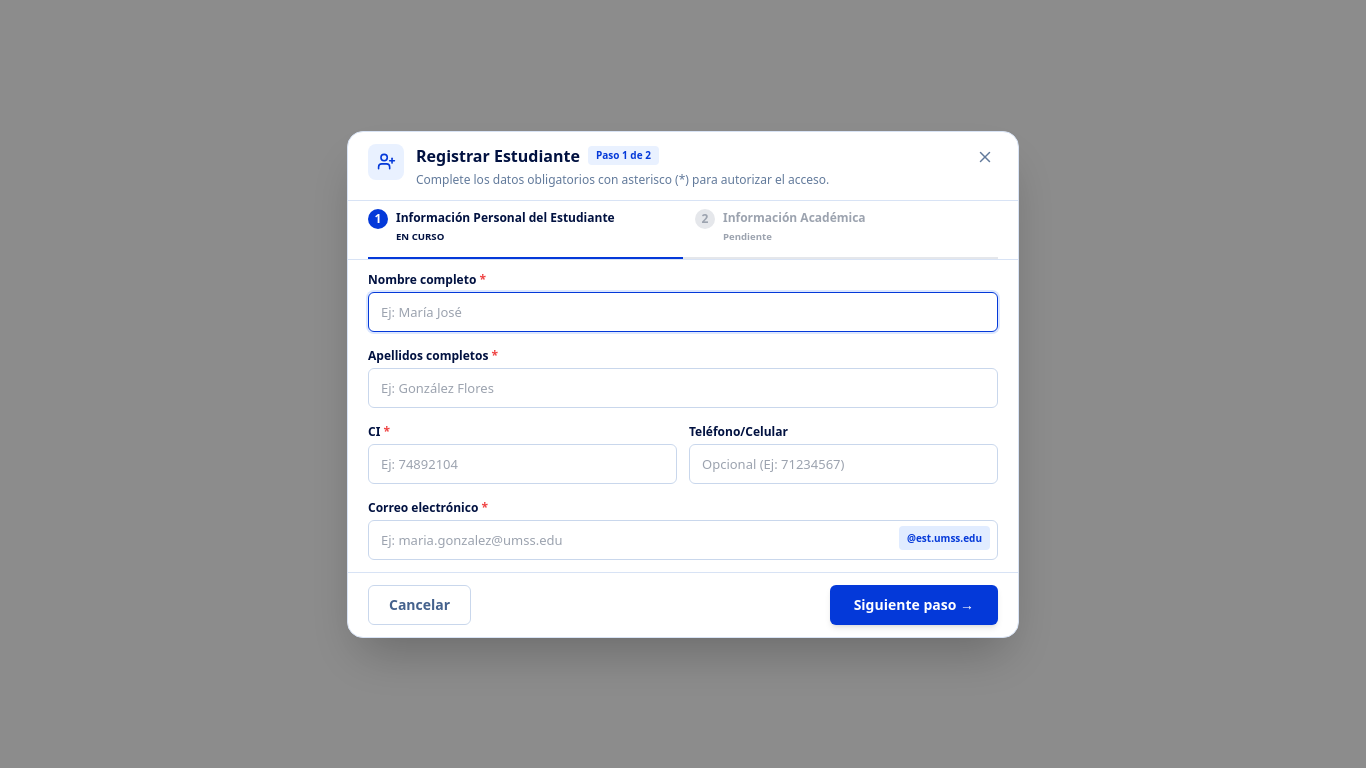
RegistrarEstudianteModal › rechaza el correo institucional ab@est.umss.edu según QA-A01
Step 1. Type "María" into the field with placeholder "Ej: María José" → coordinates (683, 312), box [368,292,998,332]
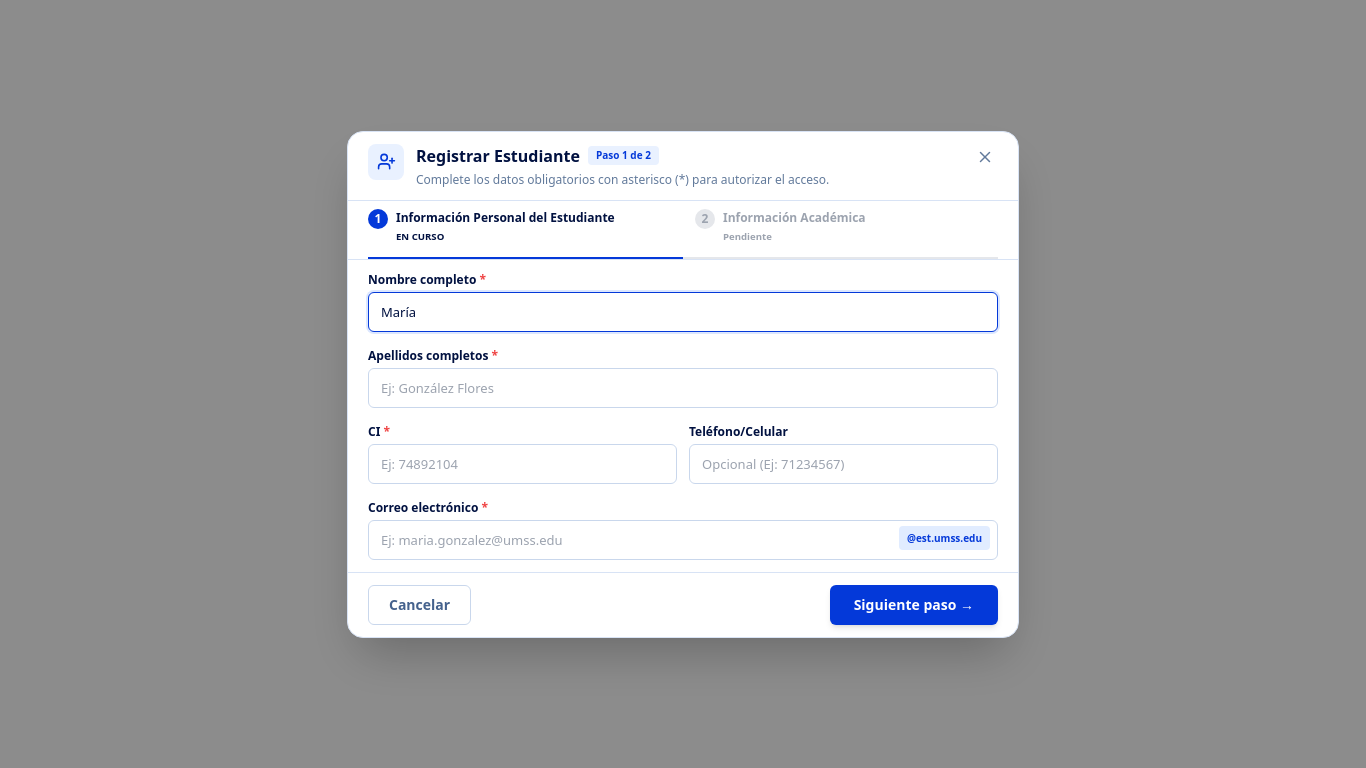
Step 2. Type "González" into the field with placeholder "Ej: González Flores" → coordinates (683, 388), box [368,368,998,408]
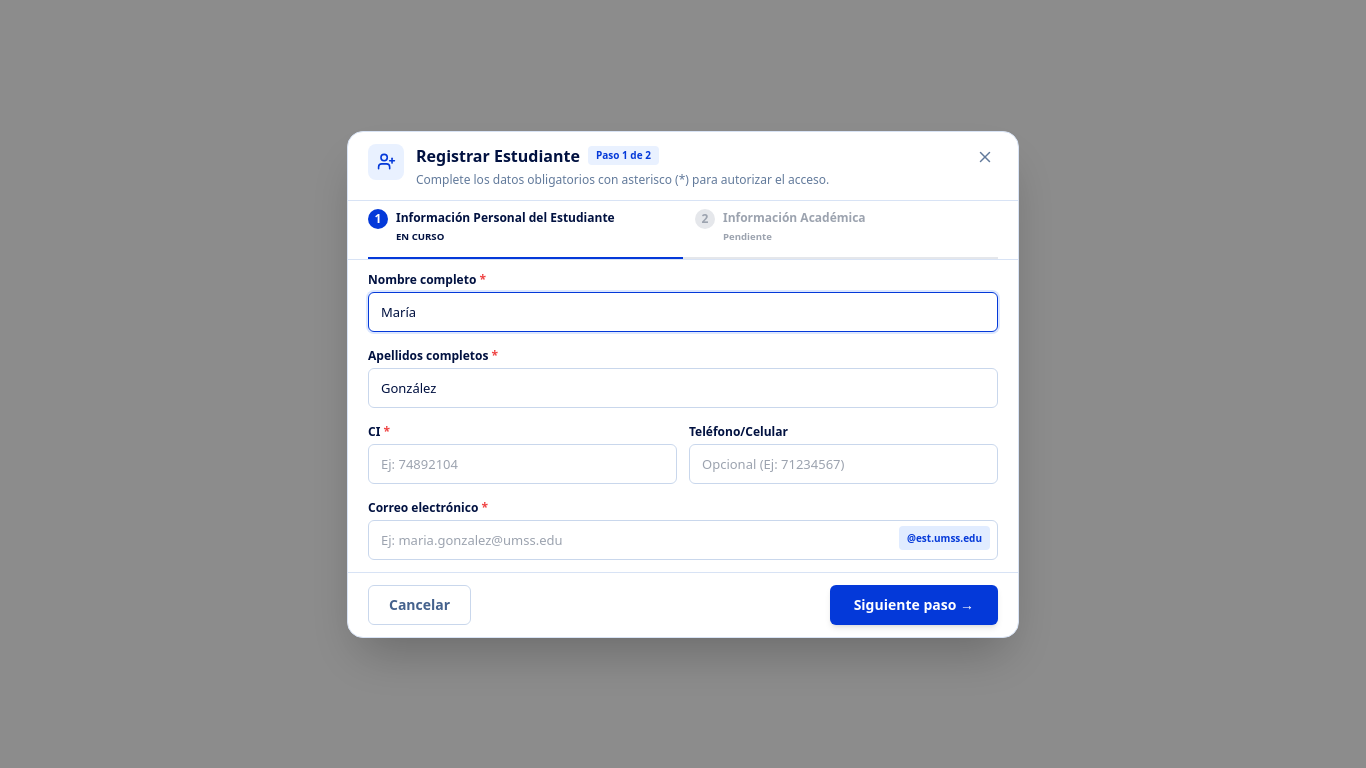
Step 3. Type "74892104" into the field with placeholder "Ej: 74892104" → coordinates (522, 464), box [368,444,677,484]
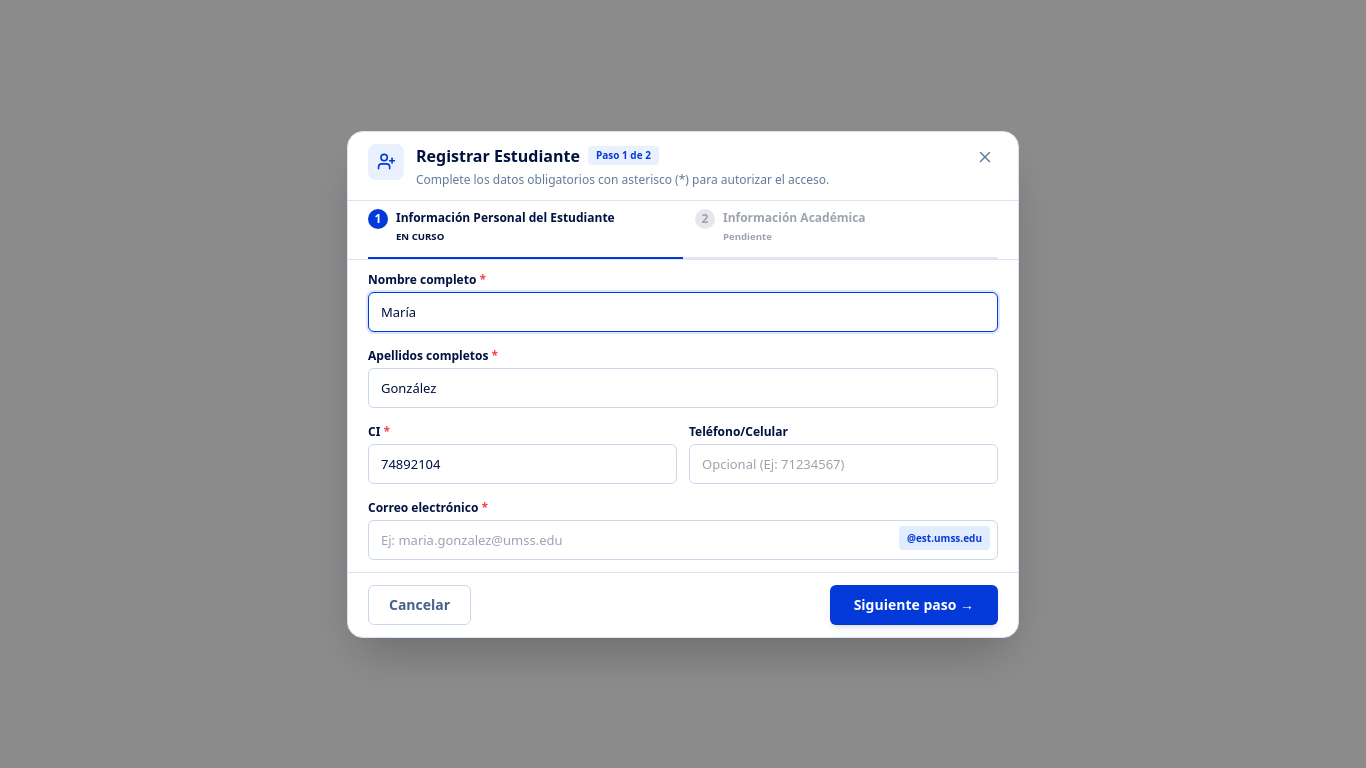
Step 4. Type "ab@est.umss.edu" into the field with placeholder "Ej: maria.gonzalez@umss.edu" → coordinates (683, 540), box [368,520,998,560]
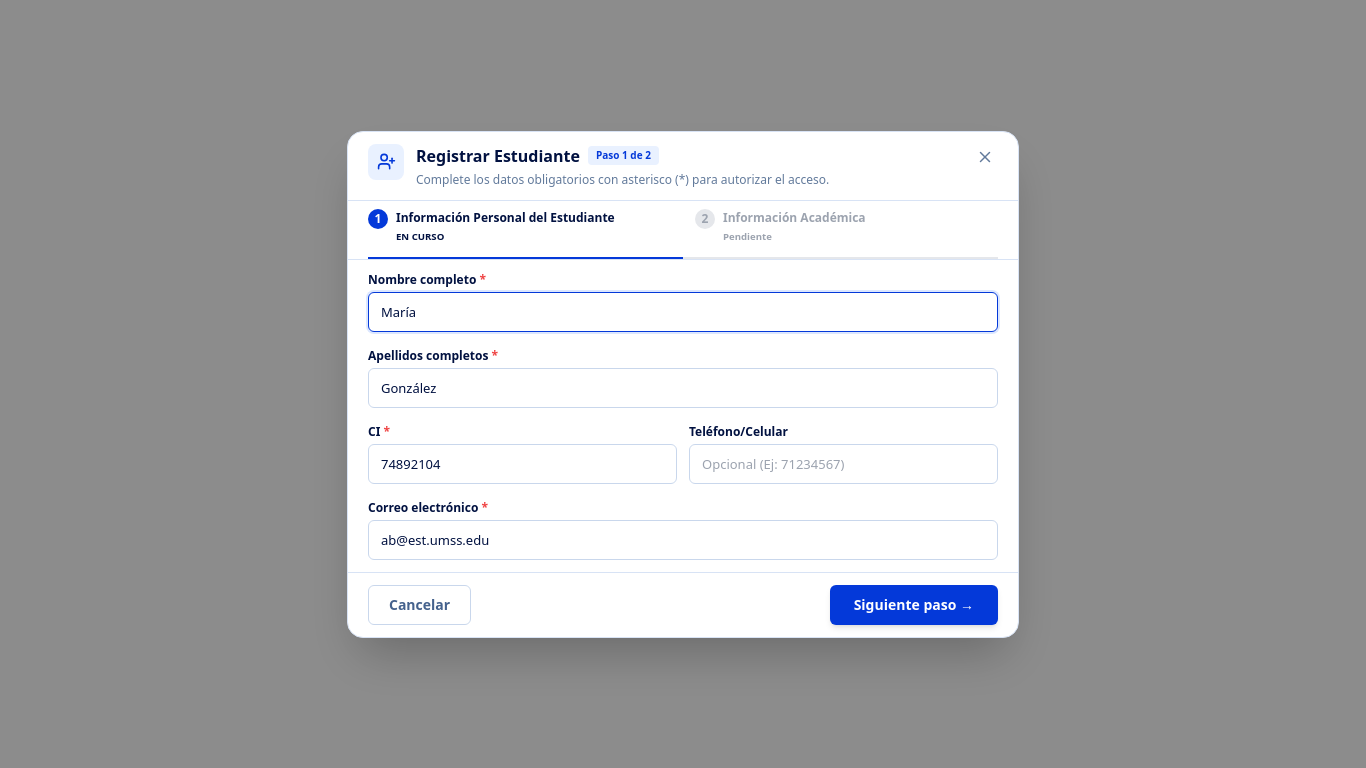
Step 5. Click the button "Siguiente paso →" → coordinates (914, 604), box [830,584,998,624]
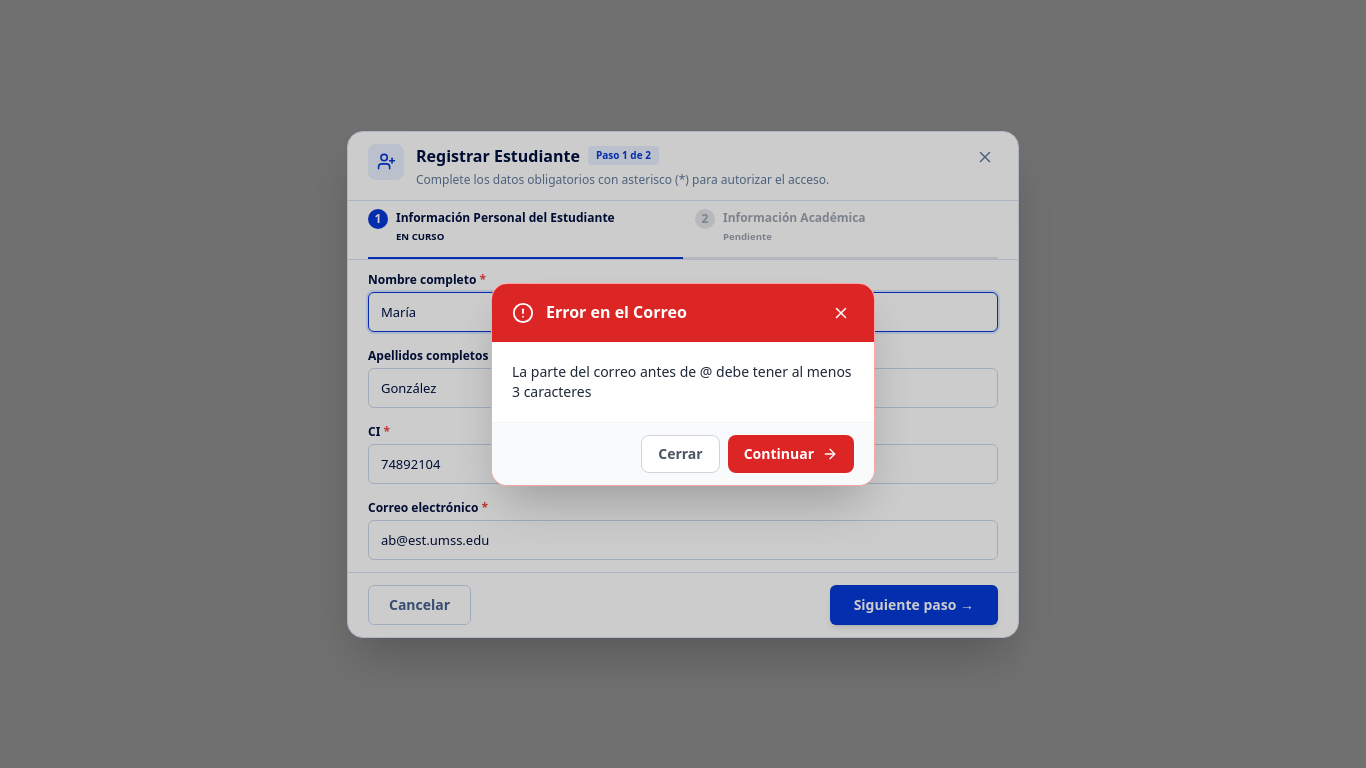
Result: the text "La parte del correo antes de @ debe tener al menos 3 caracteres" is shown at [512,362,854,402]
